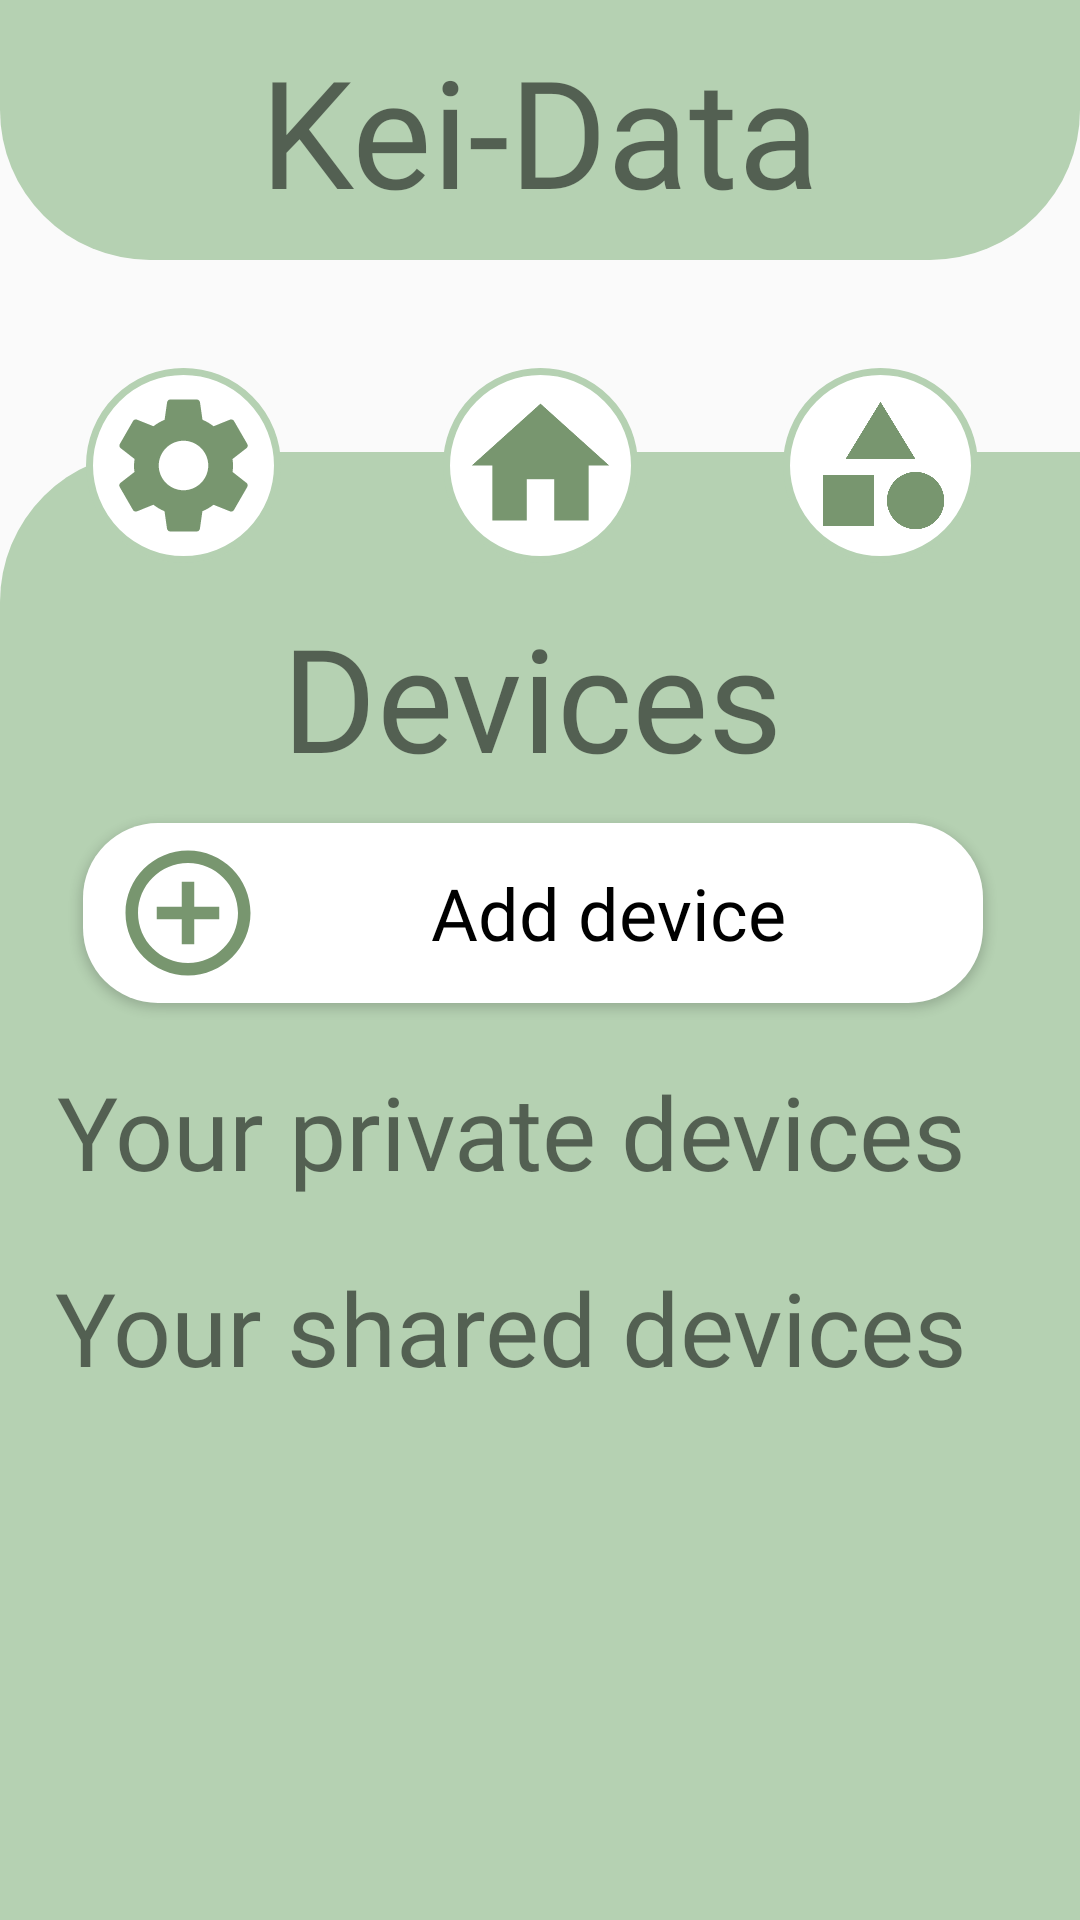

Icons on this 1080px×1920px Android screen, each with the point to tap as (x,y):
category: (880,465)
home: (540,465)
settings: (183,465)
